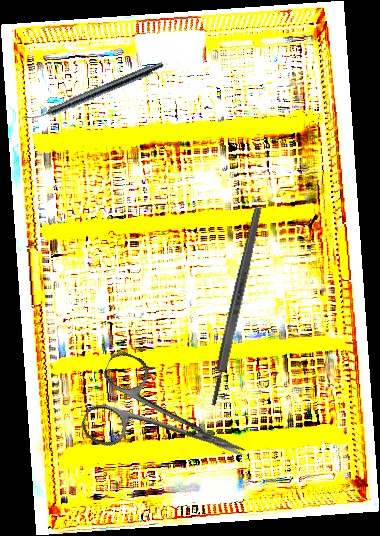Handpiece: (22, 57, 166, 128)
Iris Scissors: (76, 347, 262, 499)
Scalpel Handle: (207, 206, 265, 407)
